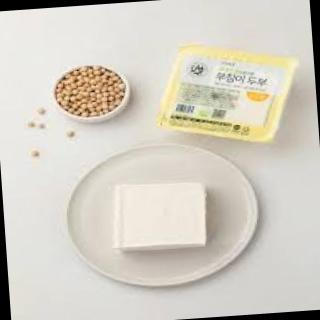Tahu: (110, 171, 232, 266)
